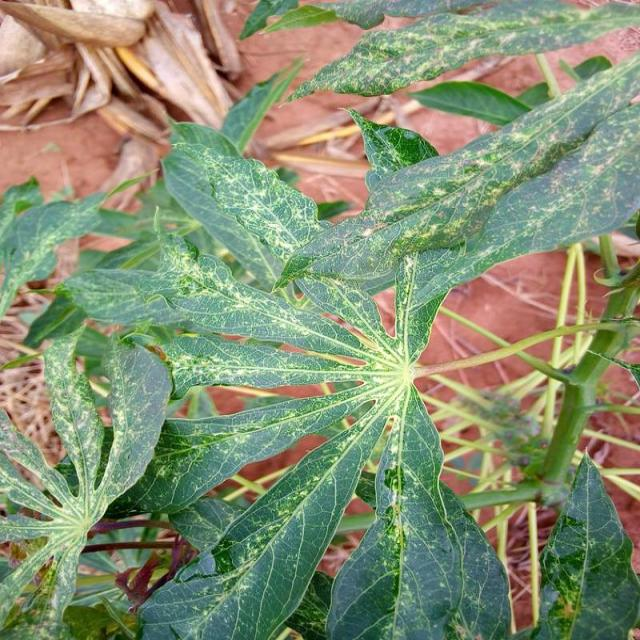cassava leaf: (3, 14, 639, 638), (535, 448, 640, 638)
